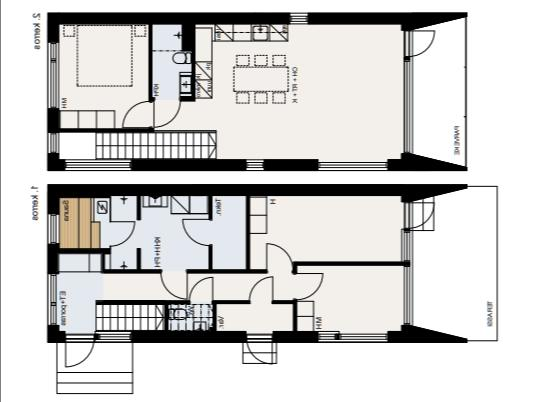bathroom: (150, 49, 192, 99), (168, 302, 214, 332)
door: (397, 27, 437, 62), (62, 333, 97, 369), (119, 99, 155, 133), (150, 95, 184, 130), (400, 200, 436, 232), (290, 270, 324, 303), (262, 241, 296, 273), (181, 217, 213, 247), (244, 334, 274, 366), (246, 275, 276, 306), (107, 220, 137, 250), (186, 275, 215, 306), (160, 270, 189, 299)
perimeter: (46, 10, 415, 172), (48, 183, 418, 342)
window: (398, 58, 416, 156), (42, 38, 62, 116), (314, 156, 389, 176), (60, 156, 135, 174), (400, 262, 416, 329), (337, 328, 390, 348), (43, 271, 60, 330), (93, 328, 132, 348), (43, 210, 64, 247), (400, 230, 416, 264), (43, 130, 62, 158), (315, 328, 340, 347), (242, 156, 266, 175), (286, 10, 312, 27)
